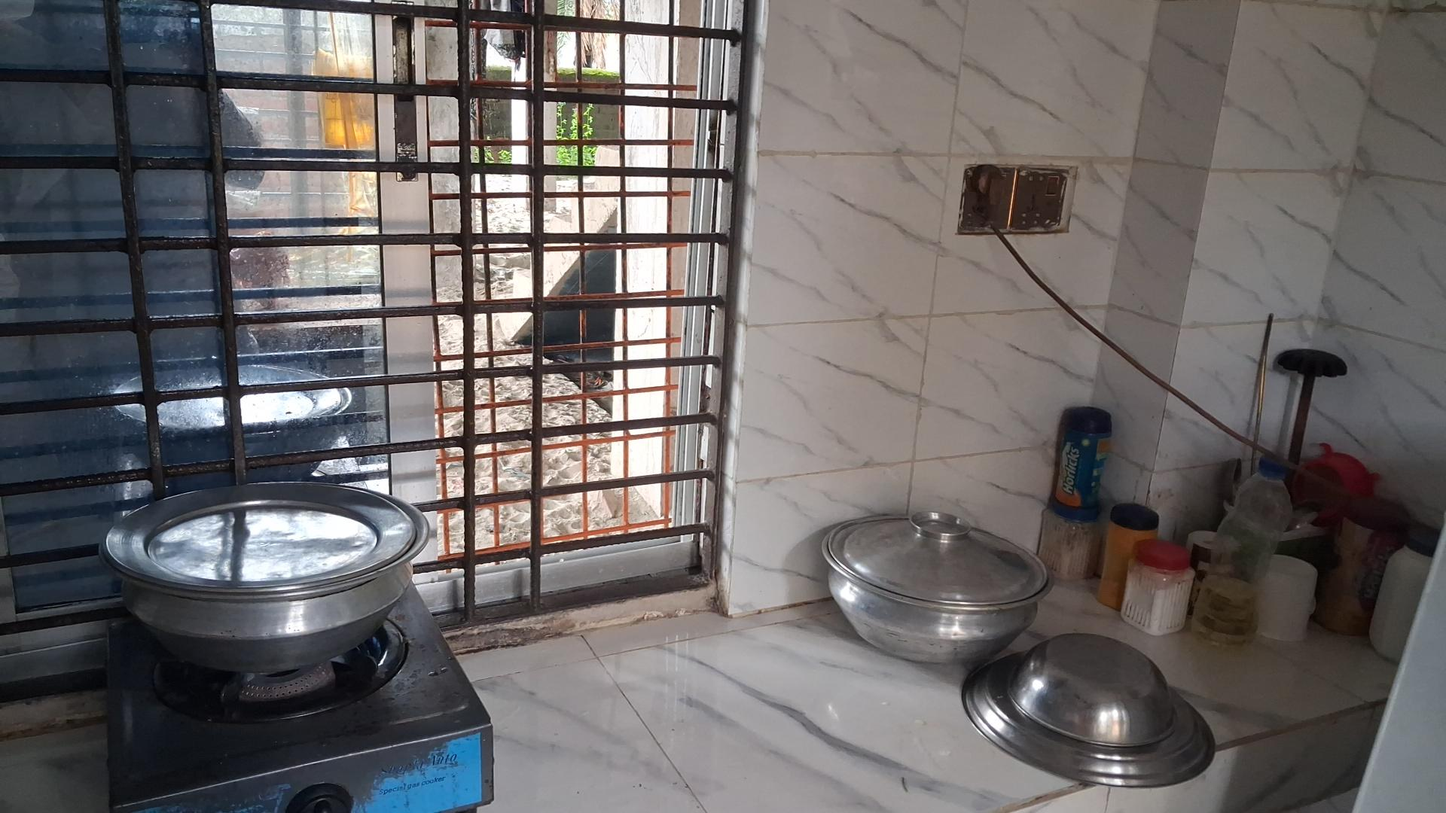Bottle: (1195, 445, 1291, 640)
Bowl: (1009, 632, 1176, 747)
Jar: (1377, 526, 1443, 657), (1121, 544, 1190, 647), (1055, 406, 1116, 510), (1039, 500, 1107, 582)
Plate: (962, 672, 1215, 787)
Pot: (101, 475, 428, 669), (821, 509, 1050, 666)
Window: (0, 0, 720, 611)
